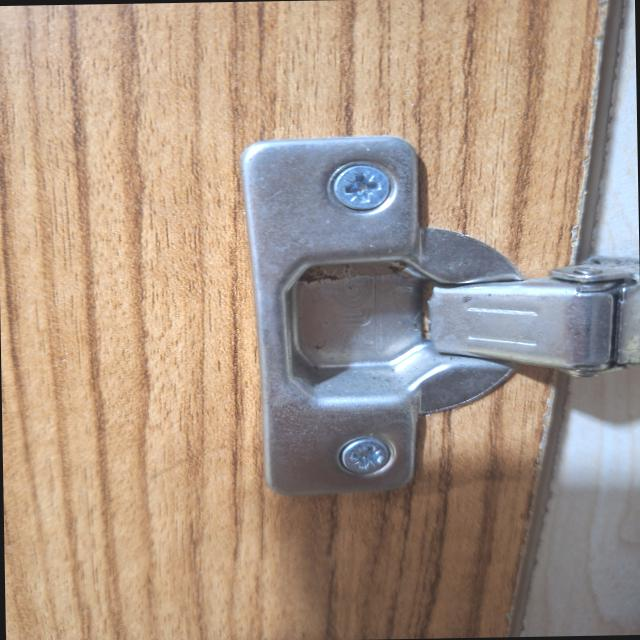Pozidriv: (328, 163, 394, 214), (336, 439, 394, 475)
